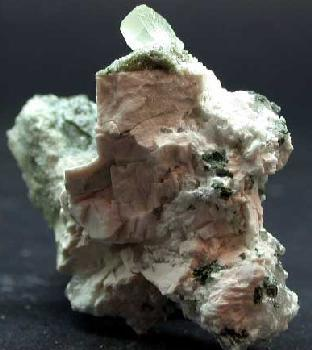calcite: (8, 5, 300, 350)
